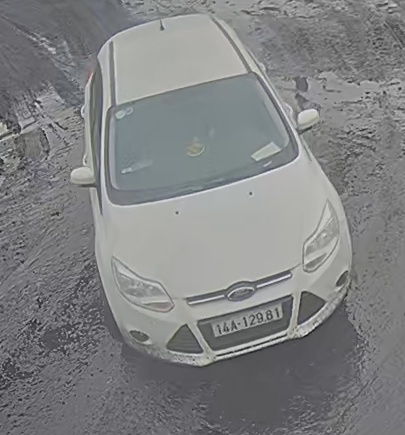vehicle plate: (209, 299, 283, 349)
